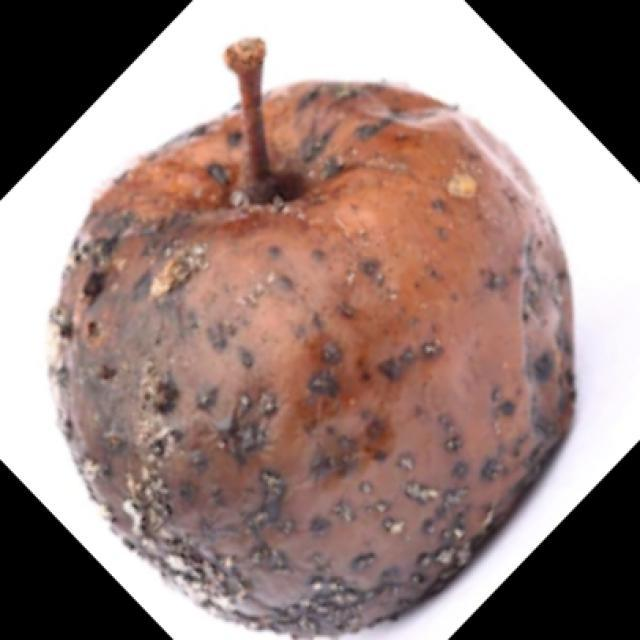Rotten: (60, 83, 583, 607)
